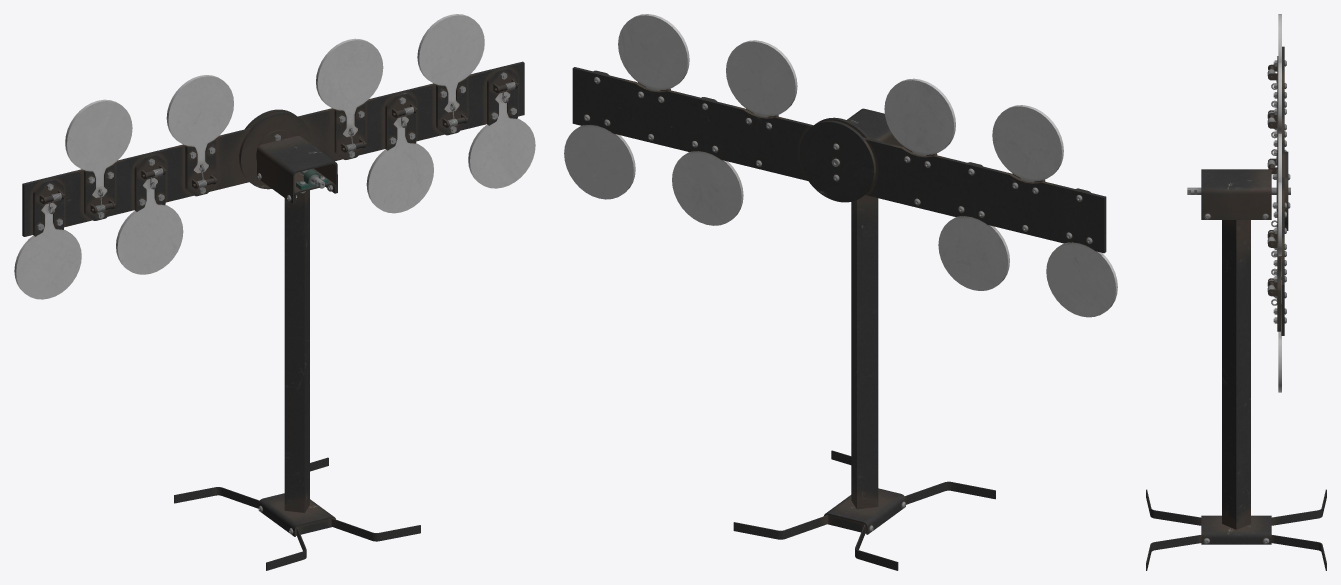
File: spin_rack.gltf
3 renders of one model, left to right at view 1: azimuth 30°, elevation 25°; view 2: azimuth 150°, elevation 25°; view 3: azimuth 270°, elevation 25°, orthographic. The views are drawn at different scales.
Visible parts, largest first — view 1: Rack, Stand, Plate5, Plate4, Plate2, Plate7, Plate3, Plate1, Plate6, Plate8; view 2: Rack, Stand, Plate5, Plate2, Plate4, Plate7, Plate1, Plate3, Plate8, Plate6; view 3: Stand, Rack, Plate7, Plate4, Plate8.
Boxes of the visible parts, <box> form: Rack: <box>22,61,524,236</box>; Stand: <box>174,136,420,570</box>; Plate5: <box>316,38,383,136</box>; Plate4: <box>166,75,233,173</box>; Plate2: <box>65,99,132,197</box>; Plate7: <box>417,14,484,112</box>; Plate3: <box>116,178,183,274</box>; Plate1: <box>14,202,81,299</box>; Plate6: <box>366,116,433,213</box>; Plate8: <box>468,91,535,188</box>; Rack: <box>572,67,1106,253</box>; Stand: <box>733,108,995,570</box>; Plate5: <box>726,40,797,117</box>; Plate2: <box>992,105,1063,182</box>; Plate4: <box>884,78,955,155</box>; Plate7: <box>618,14,689,90</box>; Plate1: <box>1046,242,1117,317</box>; Plate3: <box>938,216,1009,290</box>; Plate8: <box>564,124,635,199</box>; Plate6: <box>672,151,743,225</box>; Stand: <box>1146,169,1326,570</box>; Rack: <box>1187,46,1290,335</box>; Plate7: <box>1278,182,1281,279</box>; Plate4: <box>1278,62,1281,133</box>; Plate8: <box>1278,294,1281,392</box>.
Size of the model in its own units: 1.61 by 1.31 by 0.4969.
1 material, 1 textured.
